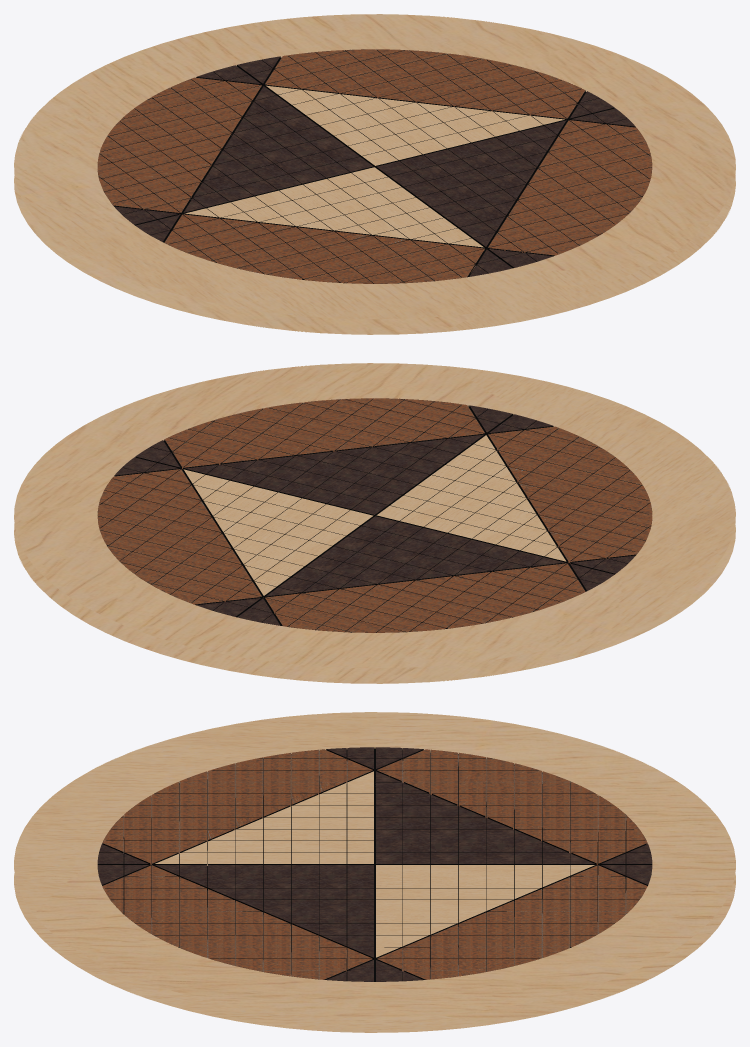
The model's file is Board.glb.
3 renders of one model, top to bottom at view 1: azimuth 30°, elevation 25°; view 2: azimuth 150°, elevation 25°; view 3: azimuth 270°, elevation 25°, orthographic.
Parts seen in each view (by area): view 1: Board, GardenNeutral3, GardenNeutral1, GardenNeutral2, GardenNeutral4, GardenLight2, GardenDark2, GardenLight1, GardenDark1, GateForeign, GateEast, GateWest (+1 smaller); view 2: Board, GardenNeutral4, GardenNeutral2, GardenNeutral1, GardenNeutral3, GardenDark2, GardenLight2, GardenDark1, GardenLight1, GateHome, GateEast, GateWest (+1 smaller); view 3: Board, GardenNeutral1, GardenNeutral2, GardenNeutral3, GardenNeutral4, GardenDark2, GardenLight2, GardenLight1, GardenDark1, GateWest, GateForeign, GateHome (+1 smaller).
Boxes of the visible parts, left/top/right/bottom form: Board: left=14, top=14, right=735, bottom=334; GardenNeutral3: left=264, top=49, right=585, bottom=120; GardenNeutral1: left=97, top=77, right=263, bottom=214; GardenNeutral2: left=164, top=214, right=486, bottom=283; GardenNeutral4: left=487, top=120, right=652, bottom=256; GardenLight2: left=264, top=85, right=567, bottom=167; GardenDark2: left=376, top=120, right=567, bottom=249; GardenLight1: left=183, top=167, right=485, bottom=250; GardenDark1: left=182, top=86, right=373, bottom=214; GateForeign: left=196, top=56, right=281, bottom=86; GateEast: left=568, top=91, right=635, bottom=127; GateWest: left=114, top=206, right=181, bottom=242; Board: left=14, top=363, right=735, bottom=683; GardenNeutral4: left=164, top=398, right=485, bottom=469; GardenNeutral2: left=486, top=426, right=652, bottom=563; GardenNeutral1: left=263, top=563, right=585, bottom=632; GardenNeutral3: left=97, top=469, right=262, bottom=605; GardenDark2: left=182, top=434, right=485, bottom=516; GardenLight2: left=182, top=469, right=374, bottom=598; GardenDark1: left=264, top=516, right=565, bottom=598; GardenLight1: left=376, top=435, right=567, bottom=563; GateHome: left=468, top=405, right=553, bottom=435; GateEast: left=114, top=440, right=181, bottom=476; GateWest: left=568, top=555, right=635, bottom=591; Board: left=14, top=712, right=735, bottom=1032; GardenNeutral1: left=375, top=749, right=647, bottom=865; GardenNeutral2: left=102, top=749, right=374, bottom=865; GardenNeutral3: left=375, top=865, right=647, bottom=979; GardenNeutral4: left=102, top=865, right=374, bottom=979; GardenDark2: left=154, top=865, right=374, bottom=960; GardenLight2: left=375, top=865, right=595, bottom=959; GardenLight1: left=153, top=771, right=374, bottom=865; GardenDark1: left=375, top=771, right=596, bottom=865; GateWest: left=326, top=747, right=423, bottom=771; GateForeign: left=599, top=844, right=652, bottom=885; GateHome: left=97, top=844, right=150, bottom=885.
Bounding box in the file's own units: 24.72 × 0.595 × 24.72.
13 materials, 13 textured.
